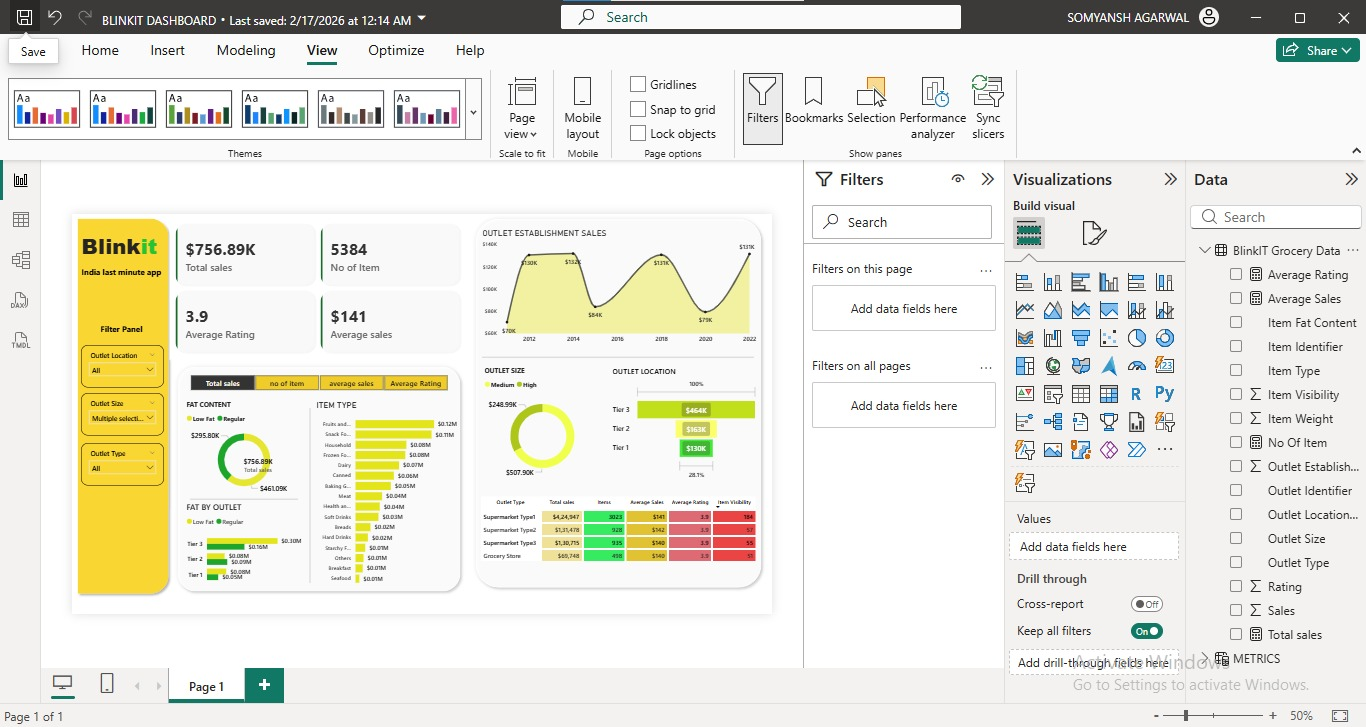

What the dashboard file says about the page in this screenshot:
{"tool":"powerbi","page":{"name":"Page 1","canvas":[1400,800],"ordinal":0},"visuals":[{"type":"shape","box":[1.7,0,200,768.3],"z":0},{"type":"textbox","box":[13.3,28.3,176.7,71.7],"z":1000},{"type":"cardVisual","fields":{"Data":["BlinkIT Grocery Data.Total sales","BlinkIT Grocery Data.no of item","BlinkIT Grocery Data.Average Rating","BlinkIT Grocery Data.average sales"]},"box":[190,2,606,294],"z":2000},{"type":"shape","box":[202,296,584,468],"z":3000},{"type":"slicer","fields":{"Values":["METRICS.METRICS"]},"box":[211.1,315.6,563.3,40],"z":4000},{"type":"donutChart","title":"FAT CONTENT","fields":{"Y":["BlinkIT Grocery Data.Total sales"],"Category":["BlinkIT Grocery Data.Item Fat Content"]},"box":[224.4,372.2,240,194.4],"z":5000},{"type":"cardVisual","fields":{"Data":["BlinkIT Grocery Data.Total sales"]},"box":[301,465,140,70],"z":6000},{"type":"clusteredBarChart","title":"FAT BY OUTLET","fields":{"Y":["BlinkIT Grocery Data.Total sales"],"Category":["BlinkIT Grocery Data.Outlet Location Type"],"Series":["BlinkIT Grocery Data.Item Fat Content"]},"box":[224.4,573.3,240,176.7],"z":7000},{"type":"barChart","title":"ITEM TYPE","fields":{"Y":["BlinkIT Grocery Data.Total sales"],"Category":["BlinkIT Grocery Data.Item Type"]},"box":[483.3,371.1,291.1,378.9],"z":8000},{"type":"shape","box":[797.5,0,590,756.2],"z":9000},{"type":"lineChart","title":"OUTLET ESTABLISHMENT SALES","fields":{"Y":["BlinkIT Grocery Data.Total sales"],"Category":["BlinkIT Grocery Data.Outlet Establishment Year"]},"box":[816,28,558,240],"z":10000},{"type":"donutChart","title":"OUTLET SIZE","fields":{"Category":["BlinkIT Grocery Data.Outlet Size"],"Y":["BlinkIT Grocery Data.Total sales"]},"box":[820,303.3,241.7,235],"z":11000},{"type":"funnel","title":"OUTLET LOCATION","fields":{"Y":["BlinkIT Grocery Data.Total sales"],"Category":["BlinkIT Grocery Data.Outlet Location Type"]},"box":[1075,303.3,300,231.7],"z":12000},{"type":"shape","box":[236.7,561.1,215.6,16.7],"z":13000},{"type":"shape","box":[466.7,387.8,20,350],"z":14000},{"type":"shape","box":[820,270,544.3,32.9],"z":15000},{"type":"tableEx","fields":{"Values":["BlinkIT Grocery Data.Outlet Type","BlinkIT Grocery Data.Total sales","BlinkIT Grocery Data.No Of Item","BlinkIT Grocery Data.Average Sales","BlinkIT Grocery Data.Average Rating","Sum(BlinkIT Grocery Data.Item Visibility)"]},"box":[811.4,560,567.1,177.1],"z":16000},{"type":"textbox","box":[13.3,100,176.7,41.7],"z":17000},{"type":"textbox","box":[51.7,213.3,100,41.7],"z":18000},{"type":"slicer","fields":{"Values":["BlinkIT Grocery Data.Outlet Location Type"]},"box":[17.5,261.2,166.2,85],"z":19000},{"type":"slicer","fields":{"Values":["BlinkIT Grocery Data.Outlet Size"]},"box":[17.5,357.5,166.2,85],"z":20000},{"type":"slicer","fields":{"Values":["BlinkIT Grocery Data.Outlet Type"]},"box":[17.5,457.5,166.2,85],"z":21000}]}

Visuals, with their boxes on the page's 1400x800 design canvas (x1, y1, x2, y2). These are canvas units, not pixel positions in the 1366x727 screenshot, which may show the page scaled, cropped or inside an application window:
shape: (2, 0, 202, 768)
textbox: (13, 28, 190, 100)
cardVisual - BlinkIT Grocery Data.Total sales x BlinkIT Grocery Data.no of item: (190, 2, 796, 296)
shape: (202, 296, 786, 764)
slicer - METRICS.METRICS: (211, 316, 774, 356)
"FAT CONTENT" donutChart: (224, 372, 464, 567)
cardVisual - BlinkIT Grocery Data.Total sales: (301, 465, 441, 535)
"FAT BY OUTLET" clusteredBarChart: (224, 573, 464, 750)
"ITEM TYPE" barChart: (483, 371, 774, 750)
shape: (798, 0, 1388, 756)
"OUTLET ESTABLISHMENT SALES" lineChart: (816, 28, 1374, 268)
"OUTLET SIZE" donutChart: (820, 303, 1062, 538)
"OUTLET LOCATION" funnel: (1075, 303, 1375, 535)
shape: (237, 561, 452, 578)
shape: (467, 388, 487, 738)
shape: (820, 270, 1364, 303)
tableEx - BlinkIT Grocery Data.Outlet Type x BlinkIT Grocery Data.Total sales: (811, 560, 1378, 737)
textbox: (13, 100, 190, 142)
textbox: (52, 213, 152, 255)
slicer - BlinkIT Grocery Data.Outlet Location Type: (18, 261, 184, 346)
slicer - BlinkIT Grocery Data.Outlet Size: (18, 358, 184, 442)
slicer - BlinkIT Grocery Data.Outlet Type: (18, 458, 184, 542)
